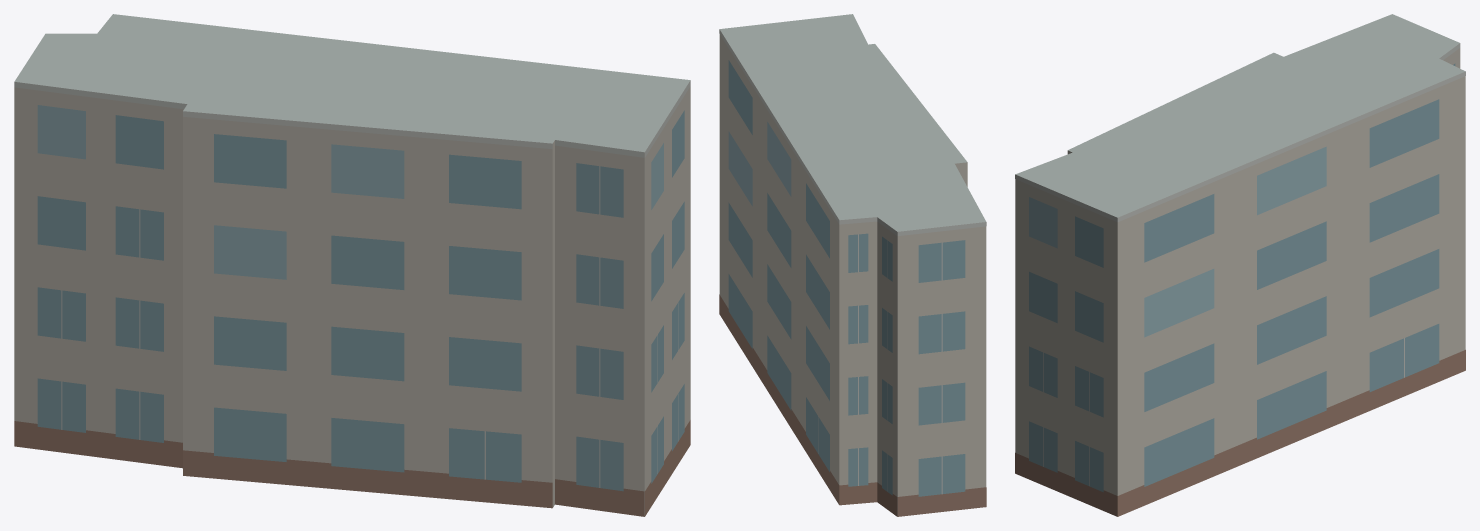
Rendered from survey-upis-32493684.glb.
The picture shows the model from 3 angles, left to right: view 1: azimuth 30°, elevation 25°; view 2: azimuth 150°, elevation 25°; view 3: azimuth 270°, elevation 25°; orthographic projection. The views are drawn at different scales.
Parts seen in each view (by area): view 1: survey-upis-32493684.tmp; view 2: survey-upis-32493684.tmp; view 3: survey-upis-32493684.tmp.
Part boxes in pixels (x1=…): survey-upis-32493684.tmp: x1=14, y1=14, x2=690, y2=516; survey-upis-32493684.tmp: x1=719, y1=14, x2=986, y2=516; survey-upis-32493684.tmp: x1=1015, y1=14, x2=1465, y2=516.
Bounding box in the file's own units: 23.09 × 15.8 × 21.58.
